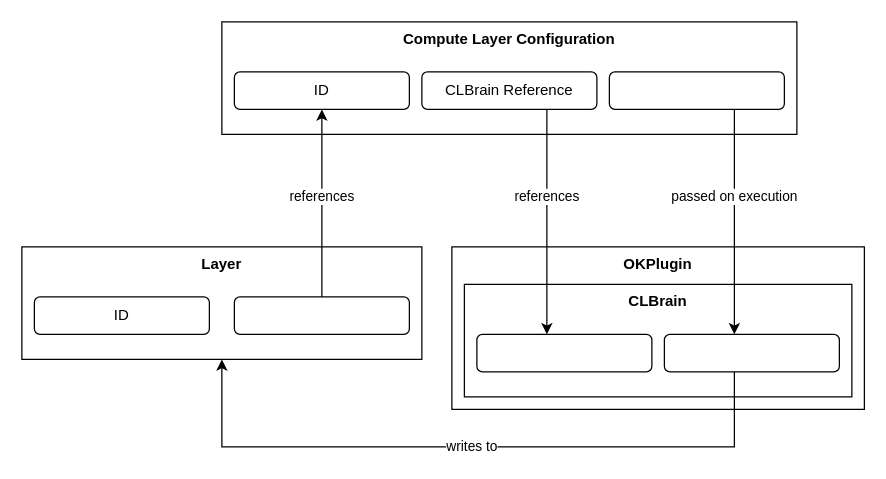
Some shapes in this 886 by 479 pixel diagram are drawn without their labels. The shapes that lost their labels are listed below. From the top down, each one's centre as x and y in pixels, then its label:
At (x=696, y=90): "CLBrain Configuration".
At (x=321, y=315): "Compute Layer Config ID".
At (x=564, y=352): "Name".
At (x=751, y=352): "Code".
